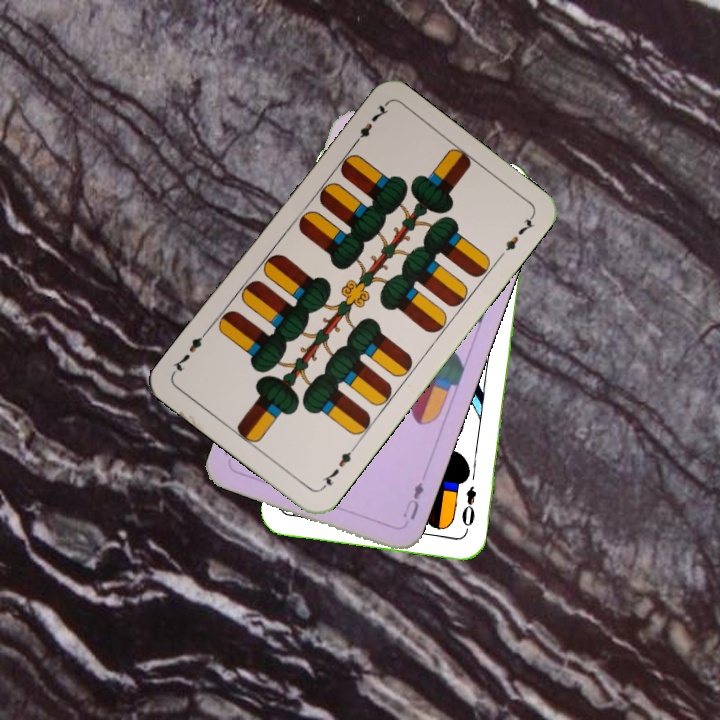E7: (316, 442, 359, 493), (348, 100, 391, 150)
EO: (458, 482, 479, 535)
EU: (398, 477, 427, 523)
